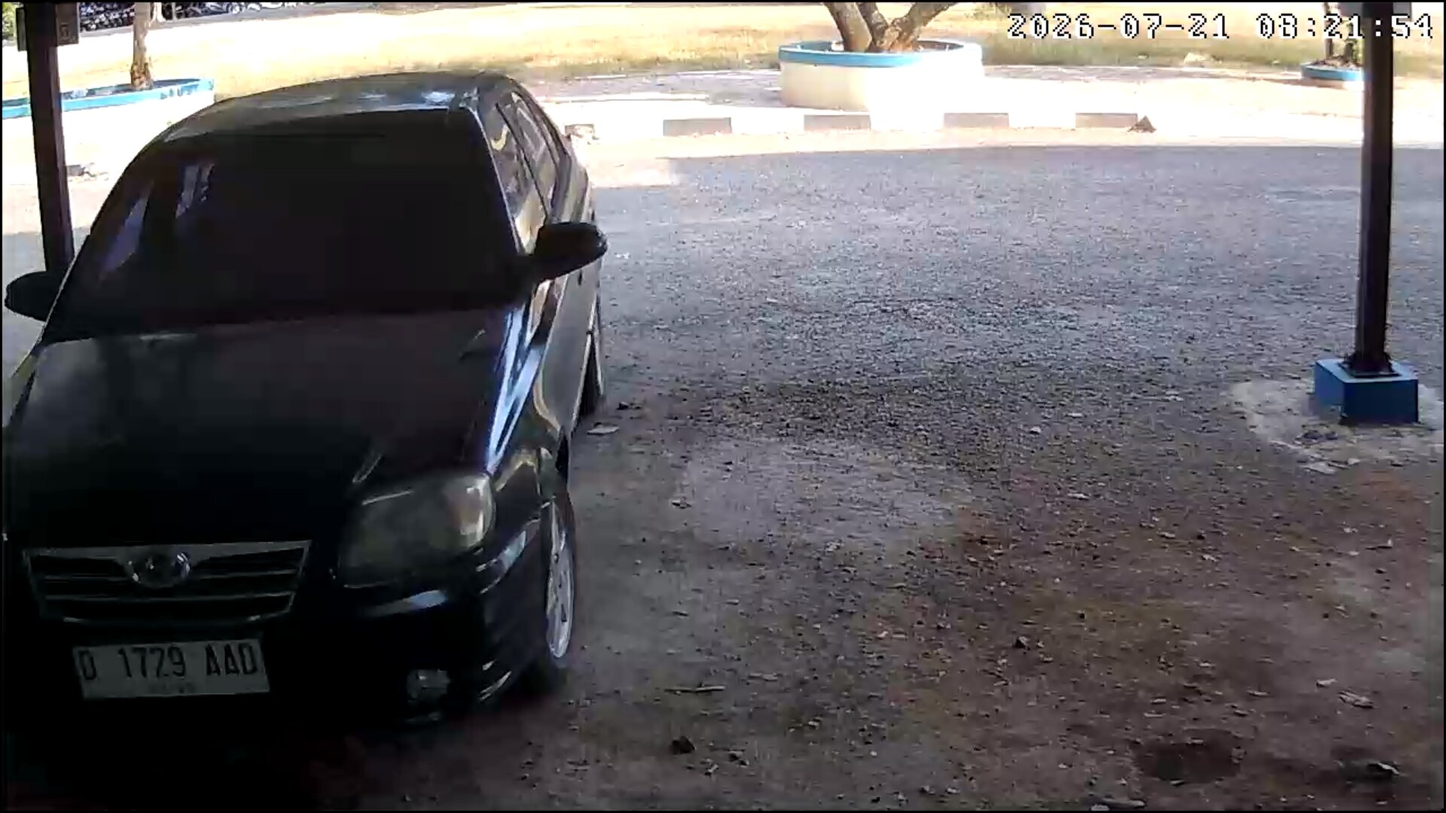plat nomor: (70, 636, 274, 701)
